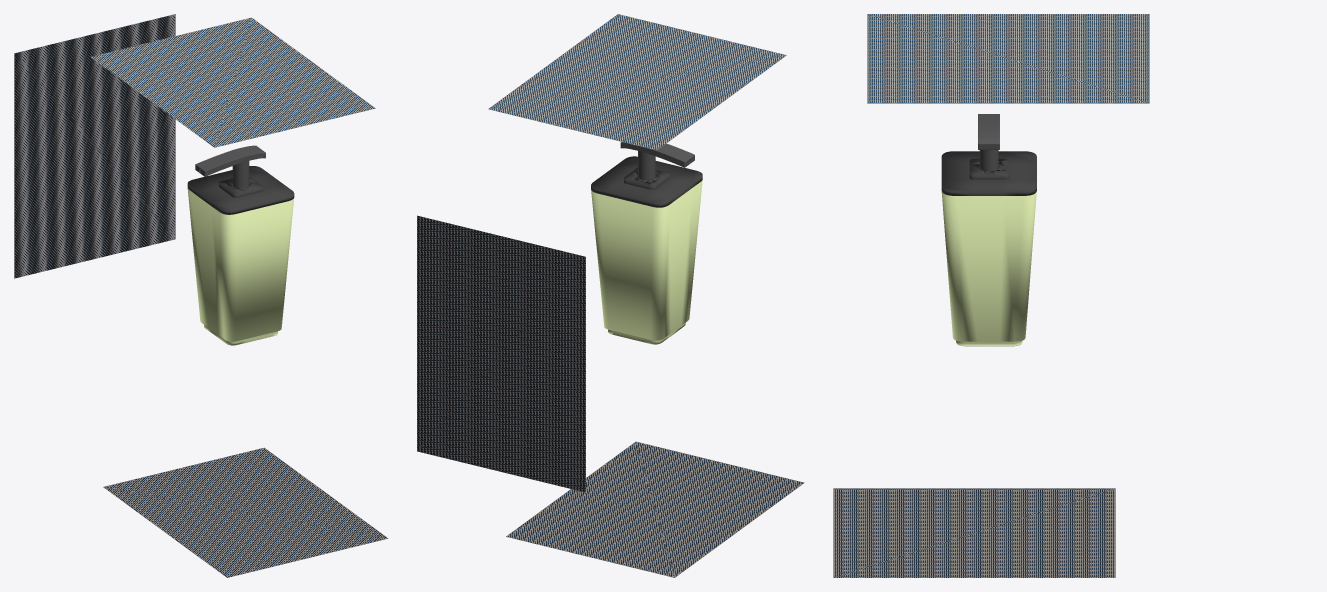
The picture shows the model from 3 angles, left to right: view 1: azimuth 30°, elevation 25°; view 2: azimuth 150°, elevation 25°; view 3: azimuth 270°, elevation 25°; orthographic projection. The views are drawn at different scales.
Visible parts, largest first — view 1: Foto_frontale, Foto_sotto, Foto_sopra, Corpo_oggetto, Base_metallo_, Parte_curva, Alzata_in_metallo; view 2: Foto_frontale, Foto_sopra, Foto_sotto, Corpo_oggetto, Base_metallo_, Parte_curva, Alzata_in_metallo; view 3: Foto_sotto, Foto_sopra, Corpo_oggetto, Base_metallo_, Parte_curva, Alzata_in_metallo.
Part boxes in pixels (x1=…): Foto_frontale: x1=14, y1=14, x2=175, y2=278; Foto_sotto: x1=103, y1=447, x2=388, y2=577; Foto_sopra: x1=90, y1=17, x2=375, y2=147; Corpo_oggetto: x1=187, y1=188, x2=293, y2=341; Base_metallo_: x1=187, y1=166, x2=294, y2=214; Parte_curva: x1=195, y1=145, x2=265, y2=176; Alzata_in_metallo: x1=219, y1=176, x2=262, y2=197; Foto_frontale: x1=417, y1=215, x2=585, y2=492; Foto_sopra: x1=488, y1=14, x2=786, y2=150; Foto_sotto: x1=506, y1=441, x2=804, y2=577; Corpo_oggetto: x1=591, y1=180, x2=702, y2=340; Base_metallo_: x1=591, y1=156, x2=702, y2=207; Parte_curva: x1=620, y1=142, x2=694, y2=167; Alzata_in_metallo: x1=624, y1=167, x2=669, y2=189; Foto_sotto: x1=833, y1=488, x2=1115, y2=577; Foto_sopra: x1=867, y1=14, x2=1149, y2=103; Corpo_oggetto: x1=941, y1=191, x2=1036, y2=341; Base_metallo_: x1=941, y1=151, x2=1036, y2=195; Parte_curva: x1=978, y1=114, x2=999, y2=149; Alzata_in_metallo: x1=969, y1=158, x2=1008, y2=179.
Size of the model in its own units: 985 by 2379 by 2172.
